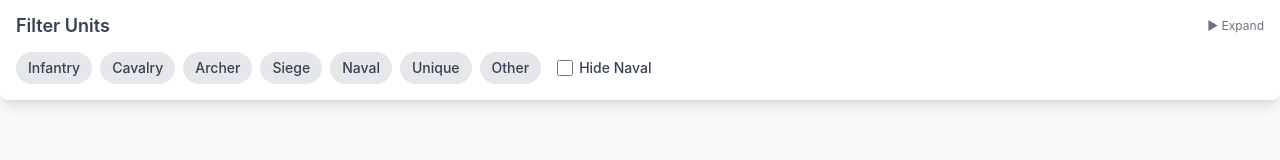
Test case: UnitFilter › Category selection › should show clear filters button when category is selected
The image size is (1280, 160).
Click the button "Archer" at (218, 68), box [183, 52, 252, 84]
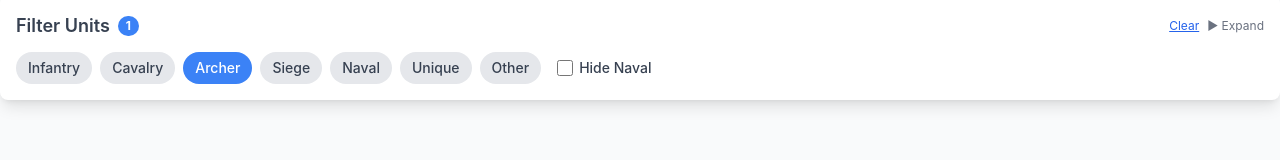
Now the button "Clear" is shown, box [1169, 18, 1199, 34]
